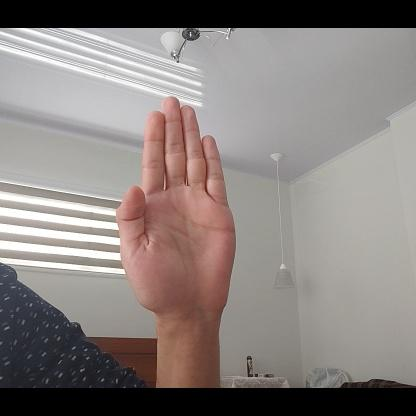B: (114, 95, 238, 317)
